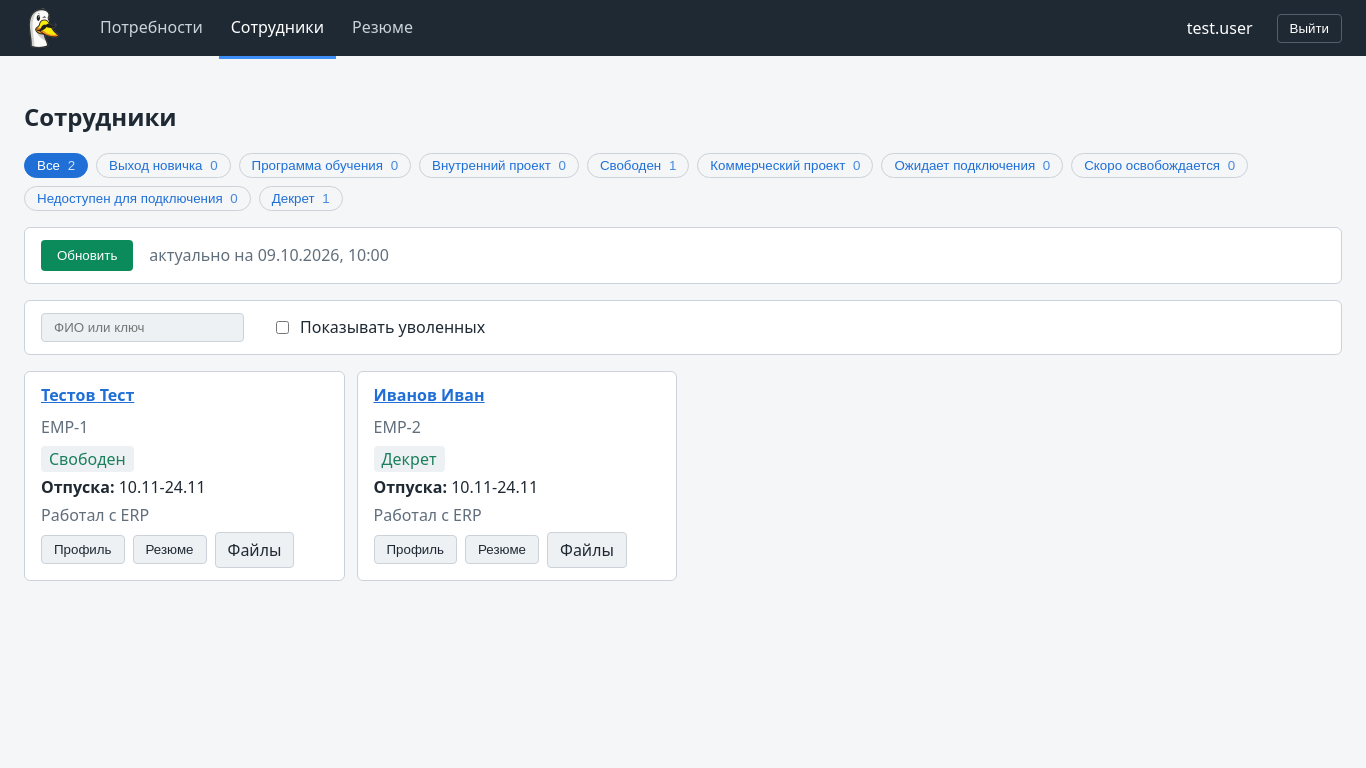
it: Сотрудники › тумблер «Показывать уволенных»: скрыты по умолчанию, работает вместе со статусом и поиском
Expected: the list item "Тестов Тест" is shown, [24,371,344,581]
Expected: the list item "Иванов Пётр" is not shown
Click the switch labelled "Показывать уволенных": (282,327) [276,321,289,334]
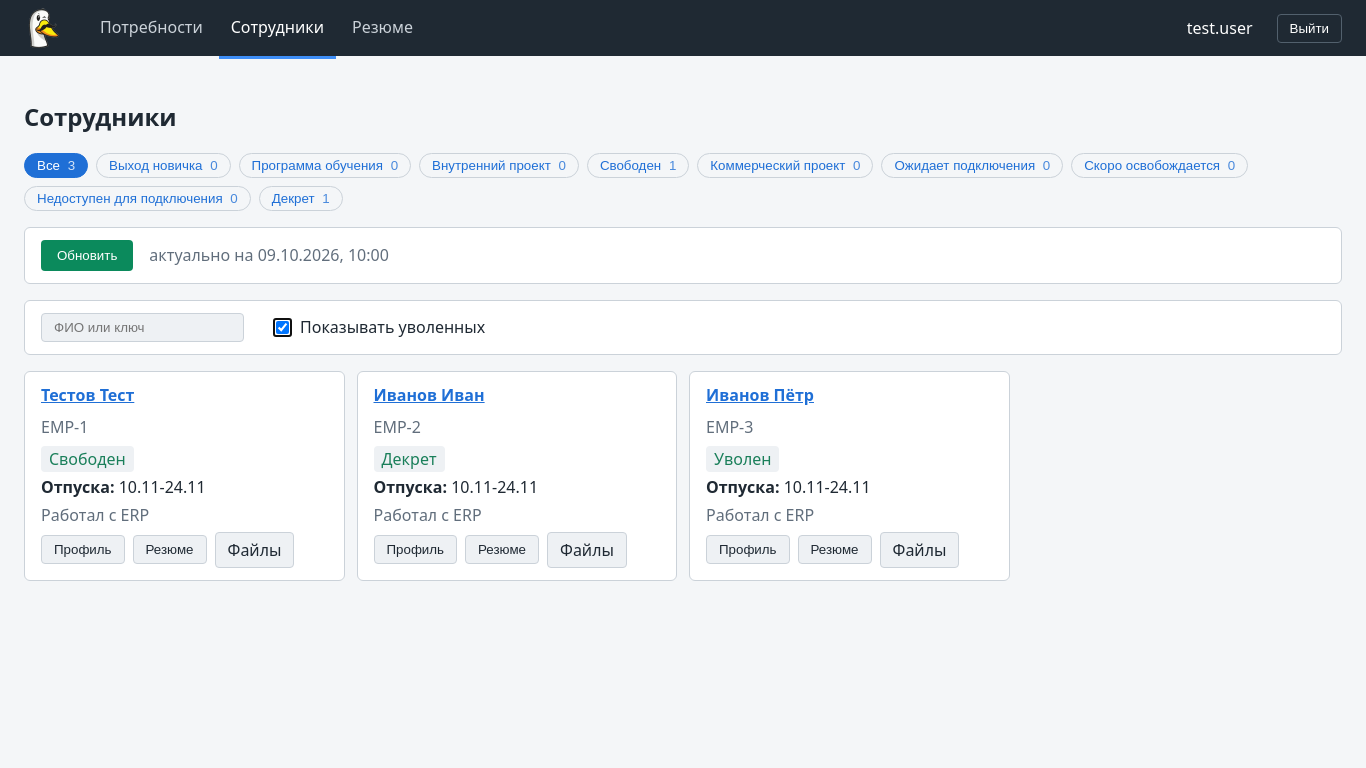
Now the list item "Иванов Пётр" is shown, box [689,371,1010,581]
Now the button "Все 3" is shown, box [24,153,88,178]
вместе с поиском
In the search field named "Поиск по ФИО и ключу": (142,327) [41,313,244,342], type "иванов"
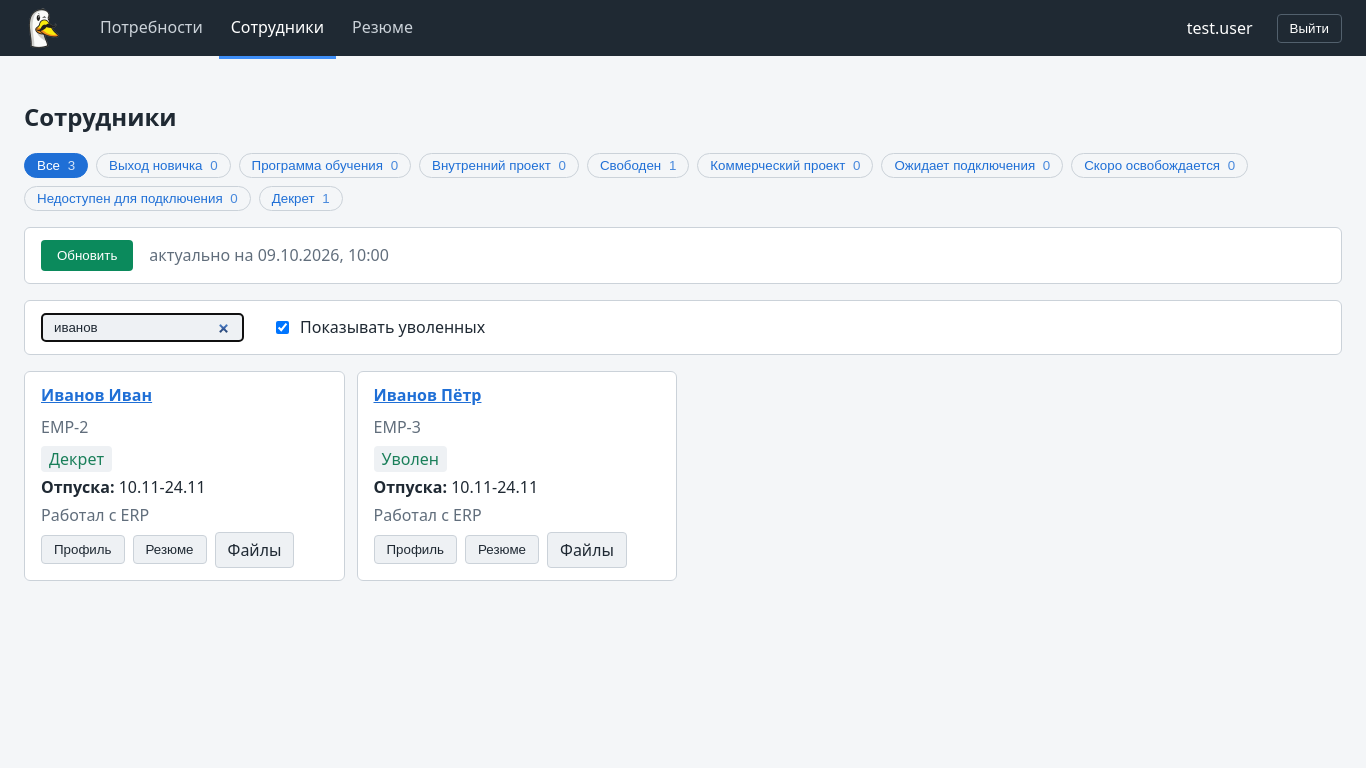
Now the list item "Иванов Пётр" is shown, box [356,371,677,581]
Now the link "Тестов Тест" is gone
вместе со статусом
Click the button "Декрет 1": (301,198) [259,186,343,211]
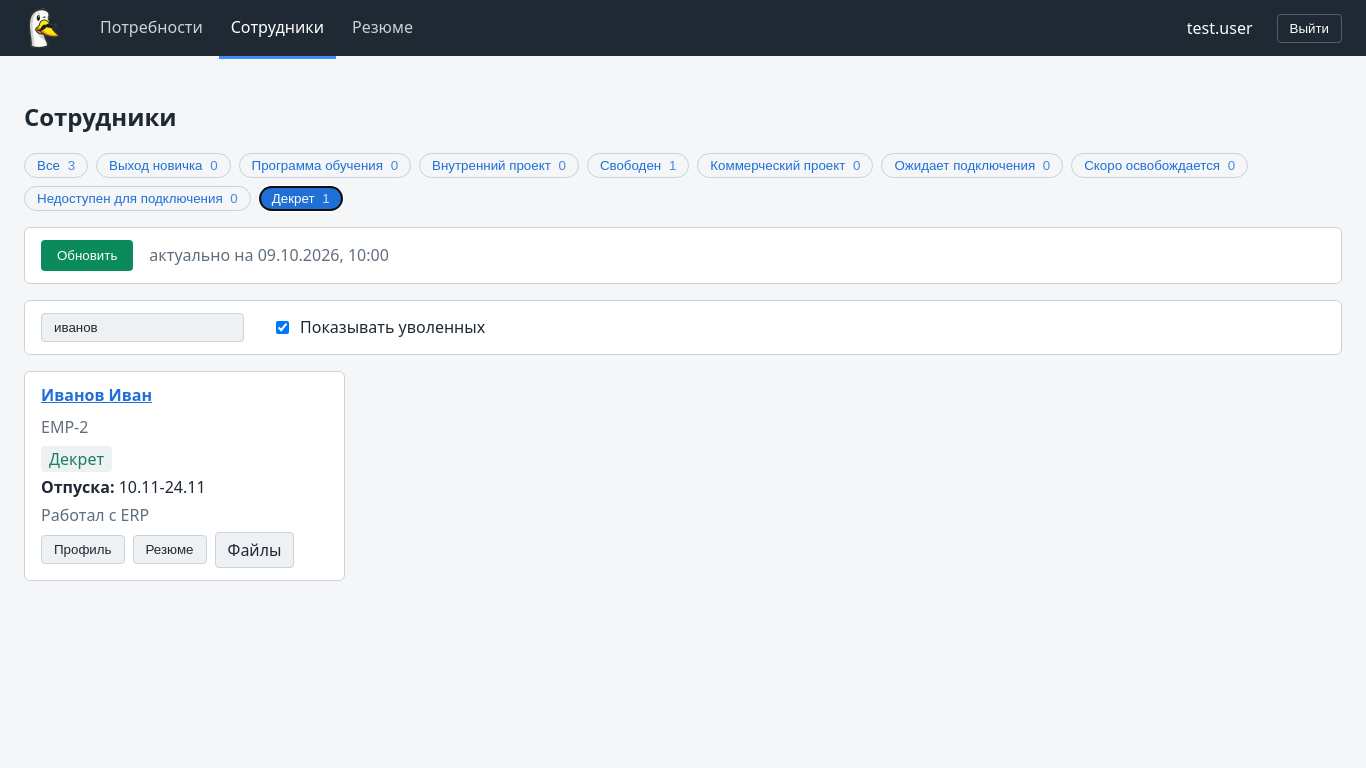
Expected: the list item "Иванов Иван" is shown, [24,371,344,581]
Now the link "Иванов Пётр" is gone
